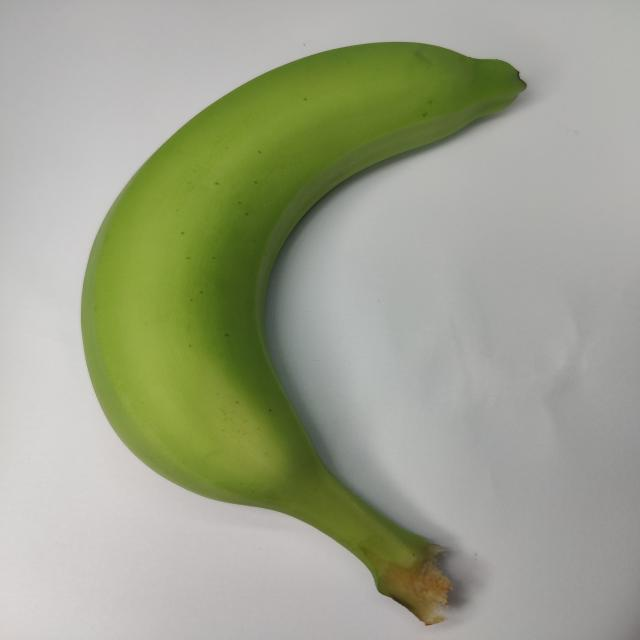raw: (40, 29, 583, 624)
